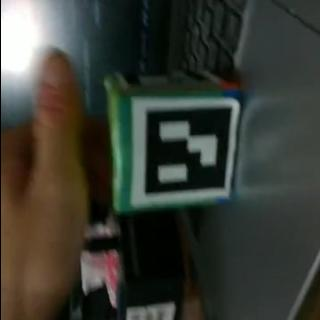armor: (128, 95, 240, 207)
robot: (100, 74, 247, 212)
